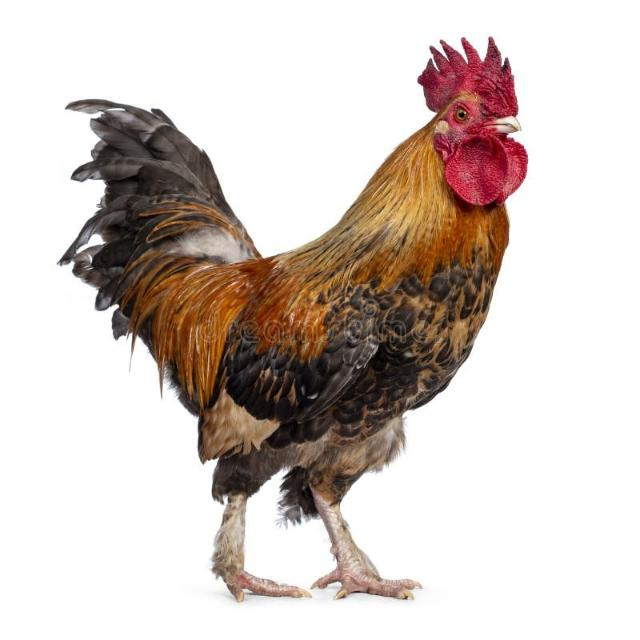Chicken: (65, 36, 527, 602)
